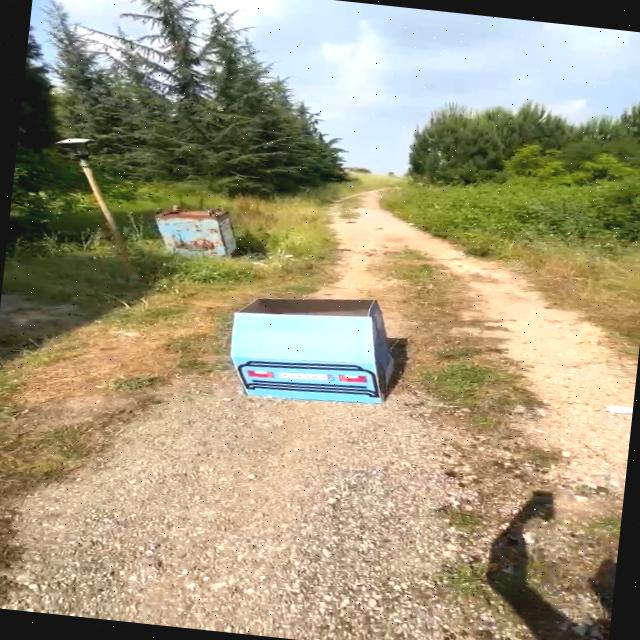blue_car: (207, 267, 458, 420)
